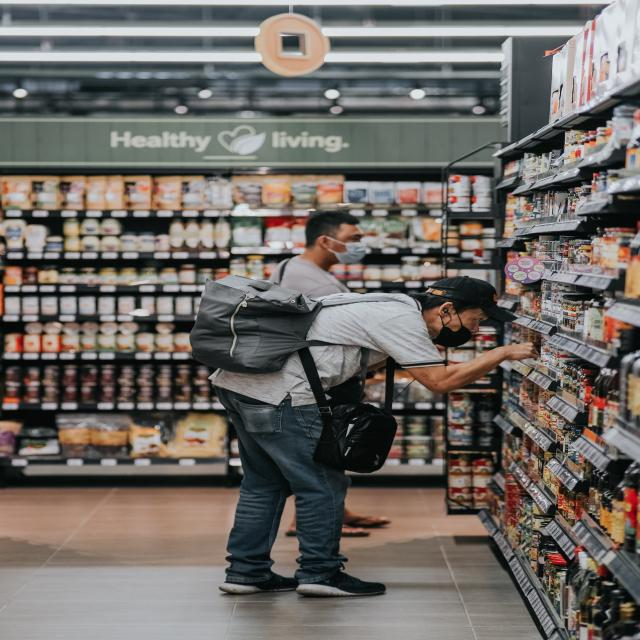backpack: (282, 350, 398, 474), (193, 266, 310, 373)
